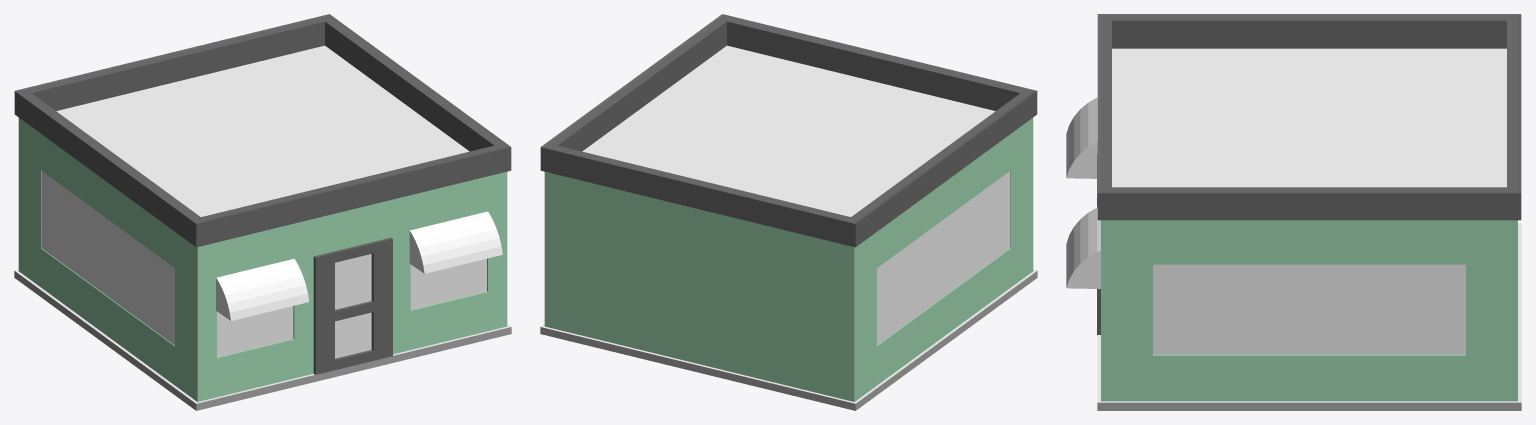
Rendered from lowPolyBuild1.glb.
The picture shows the model from 3 angles, left to right: view 1: azimuth 30°, elevation 25°; view 2: azimuth 150°, elevation 25°; view 3: azimuth 270°, elevation 25°; orthographic projection. The views are drawn at different scales.
Parts seen in each view (by area): view 1: Plane; view 2: Plane; view 3: Plane.
Boxes of the visible parts, x1,y1,x2,y2 form: Plane: (14, 14, 511, 410); Plane: (540, 14, 1037, 410); Plane: (1066, 14, 1521, 410).
Size of the model in its own units: 2.04 by 1.15 by 2.18.
